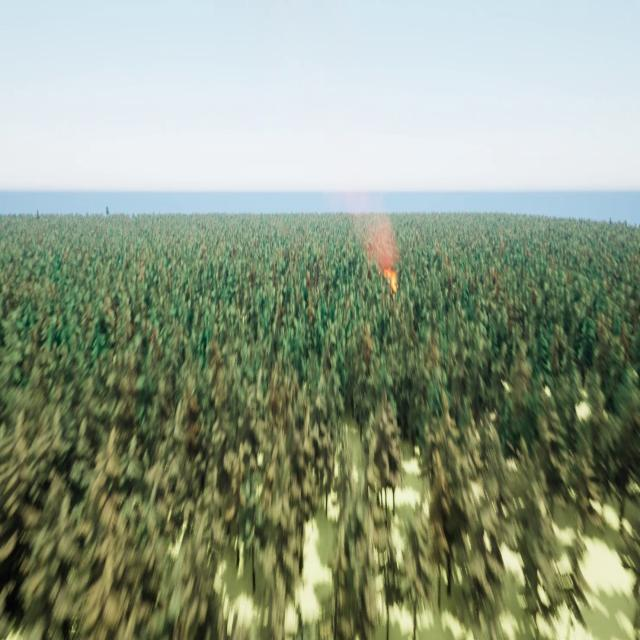fire: (382, 264, 402, 295)
smoke: (349, 190, 399, 274)
